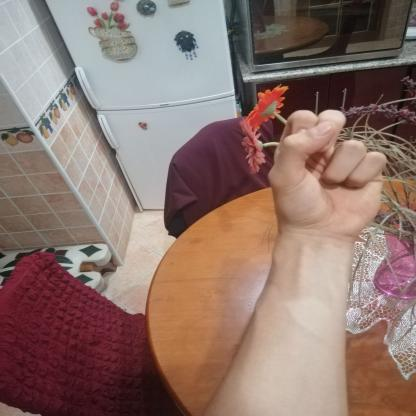QAAF: (250, 97, 398, 245)
